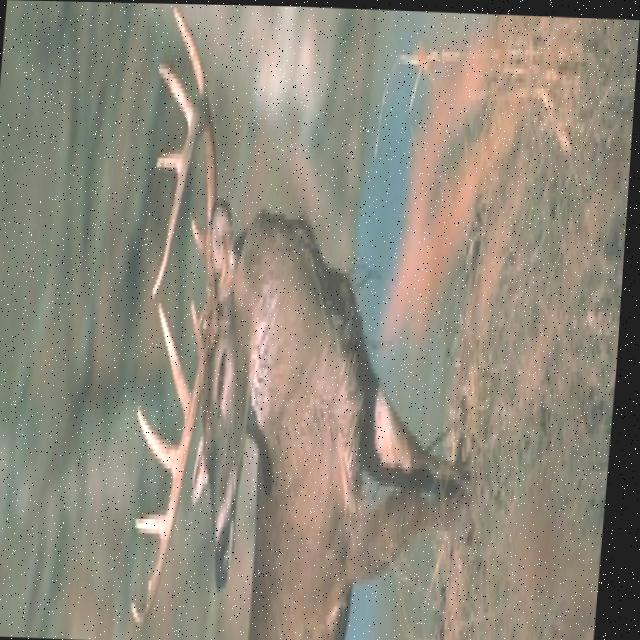E1: (203, 303, 209, 322)
L-F: (153, 89, 223, 357)
L-G1: (192, 209, 208, 256)
L-G2: (171, 3, 207, 95)
L-G3: (157, 60, 196, 129)
L-G4: (156, 144, 185, 177)
R-G1: (193, 296, 207, 358)
R-G2: (160, 298, 196, 423)
R-G3: (140, 403, 185, 478)
R-G4: (140, 509, 173, 542)
